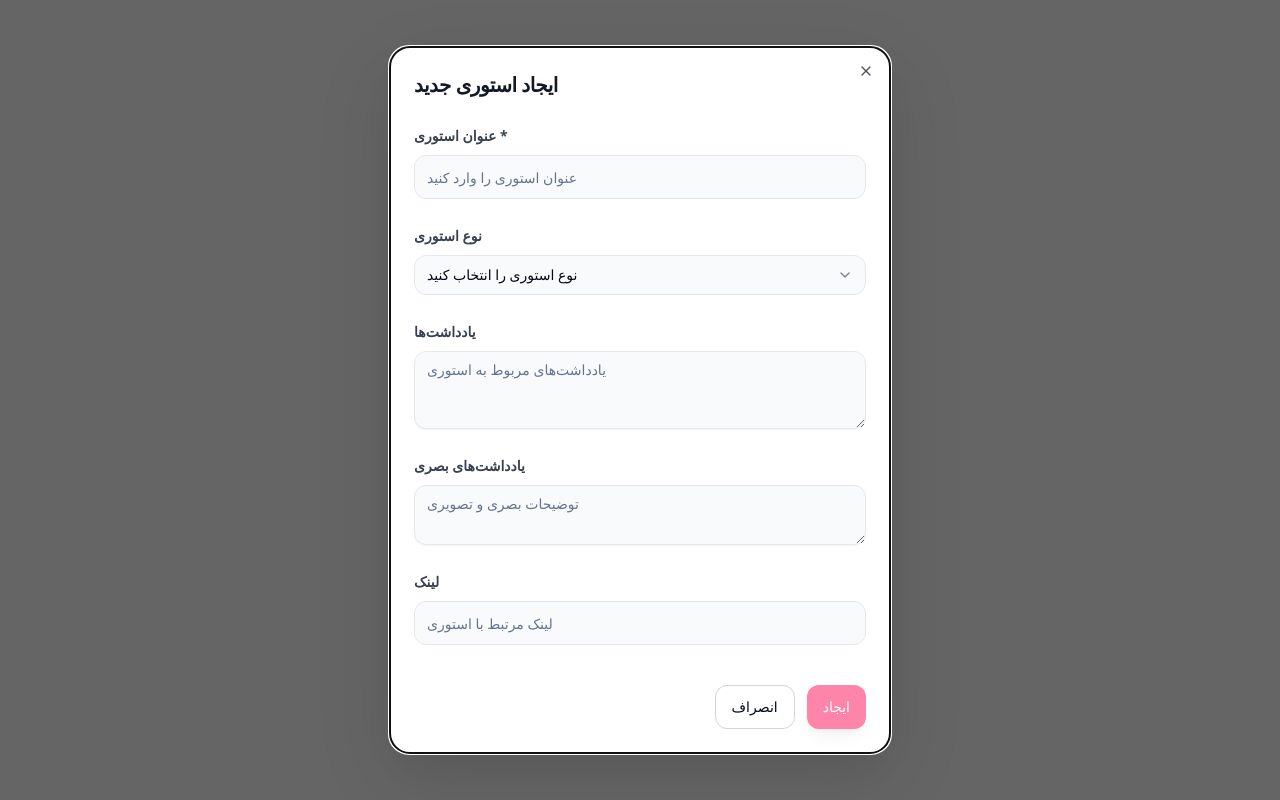
CreateStoryDialog › handles rapid typing in input fields
Rapid typing
Type "Rapid" into the field labelled "عنوان استوری *" at (640, 177), box [414, 155, 866, 199]
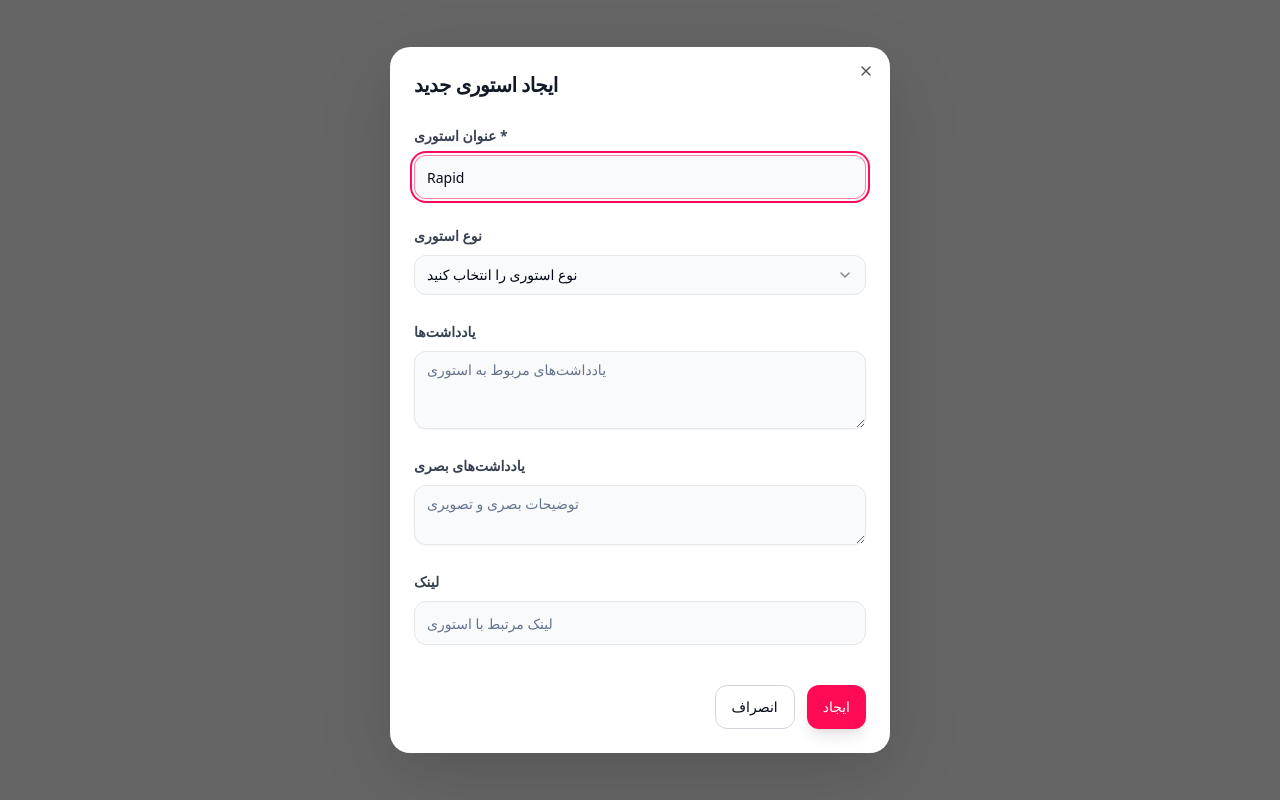
Type "Quick" into the text box labelled "یادداشت‌ها" at (640, 390), box [414, 351, 866, 429]
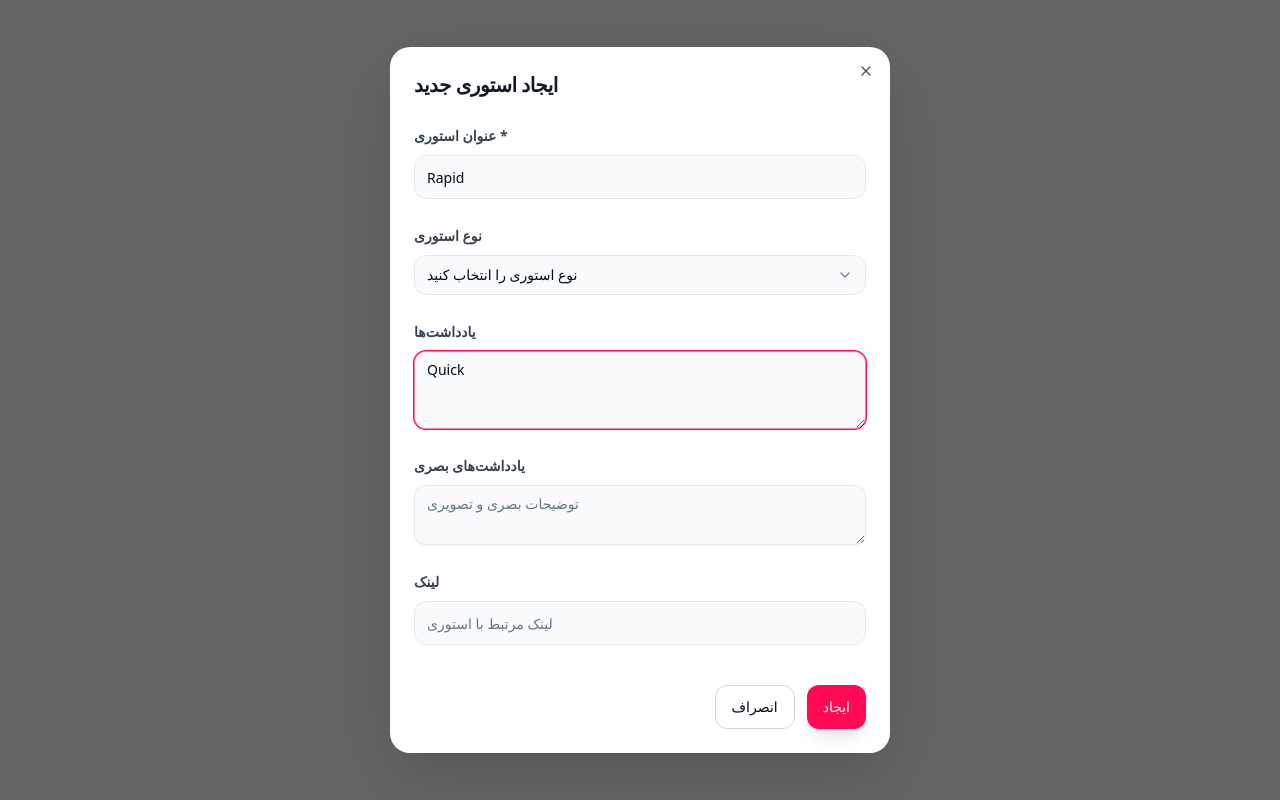
Type " Story" into the field labelled "عنوان استوری *" at (640, 177), box [414, 155, 866, 199]
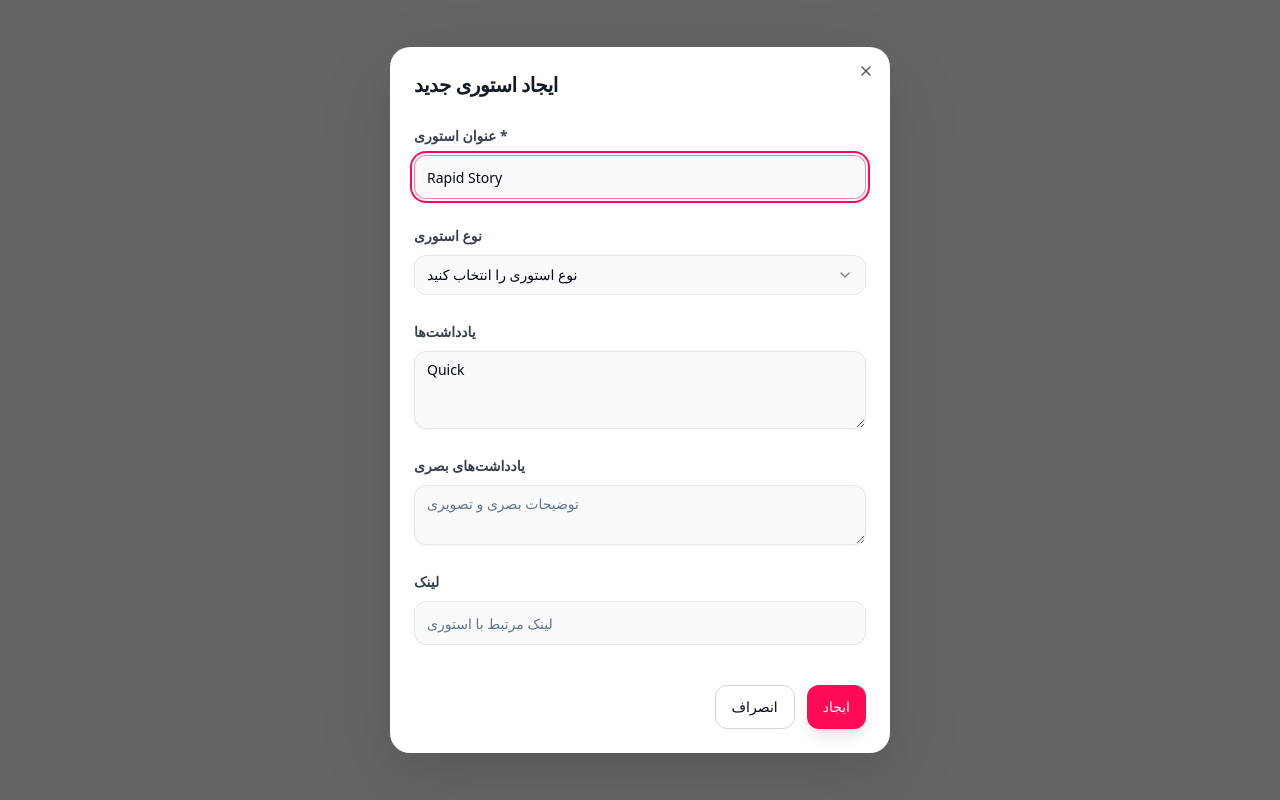
Type " notes" into the text box labelled "یادداشت‌ها" at (640, 390), box [414, 351, 866, 429]
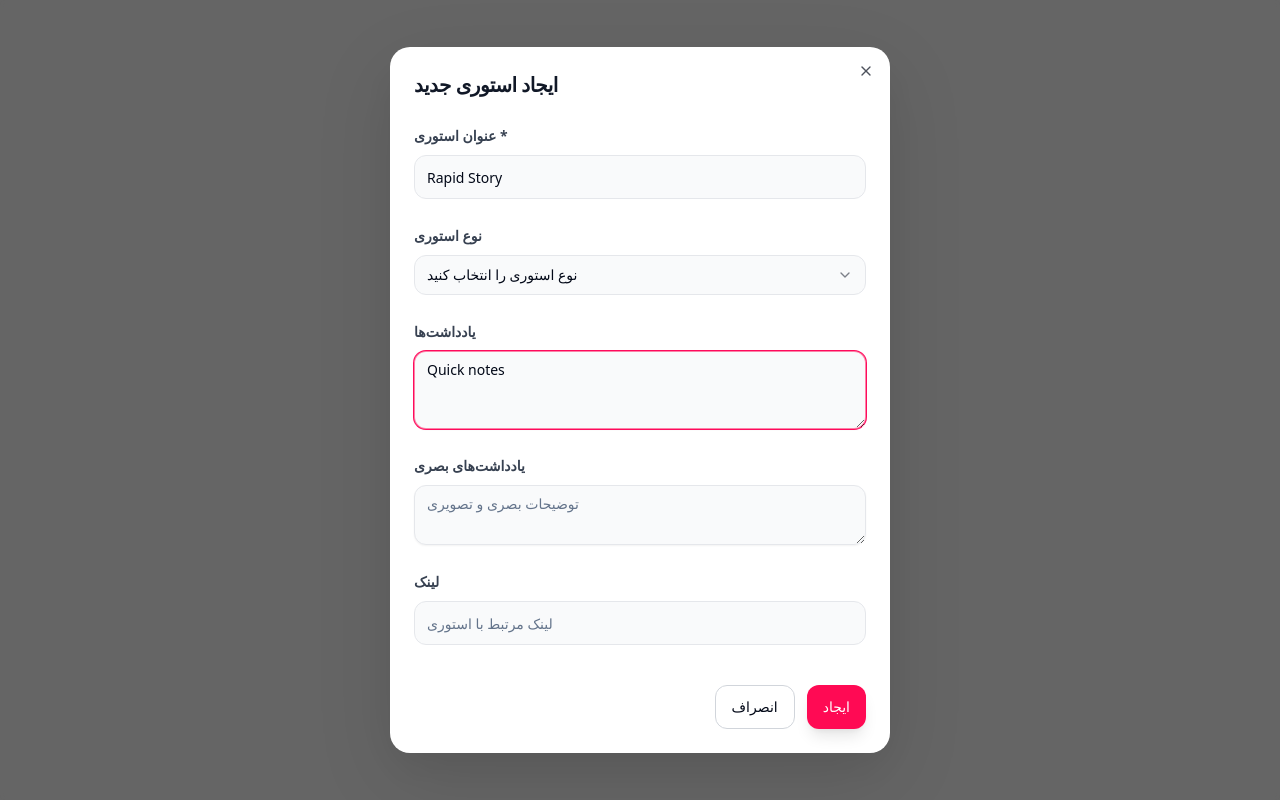
Check: the field labelled "عنوان استوری *" holds "Rapid Story", box [414, 155, 866, 199]
Check: the text box labelled "یادداشت‌ها" holds "Quick notes", box [414, 351, 866, 429]
